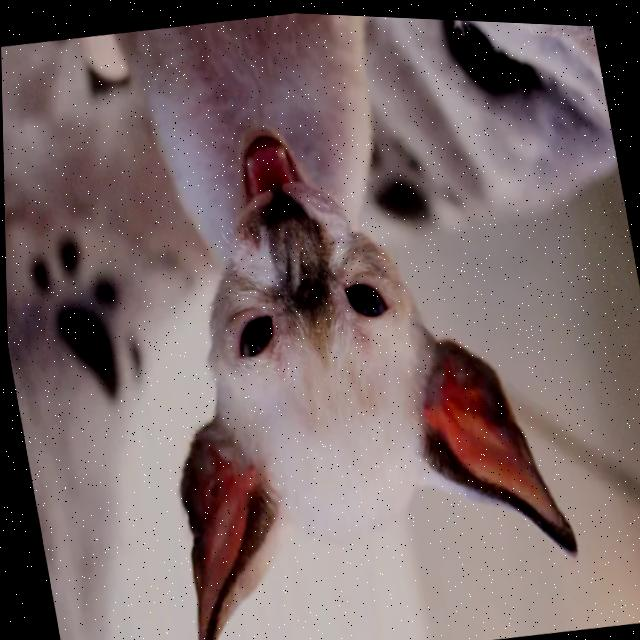Cornish Rex: (60, 2, 594, 640)
